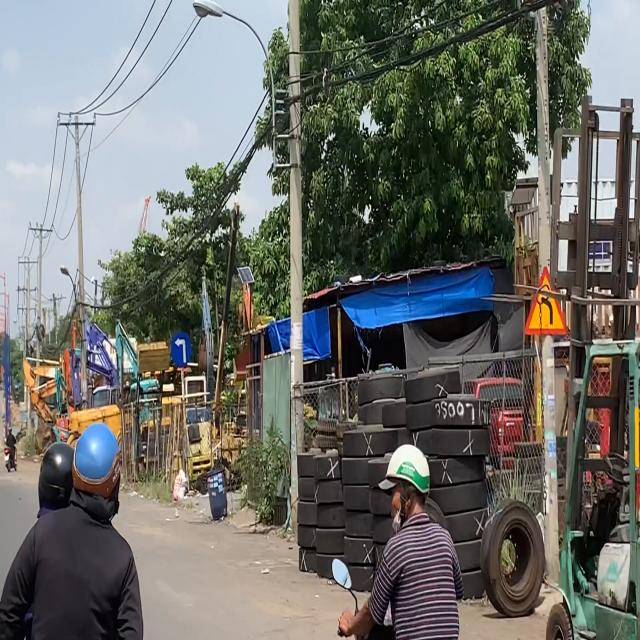Nguy hiem: (522, 263, 570, 339)
Re trai: (170, 329, 193, 369)
